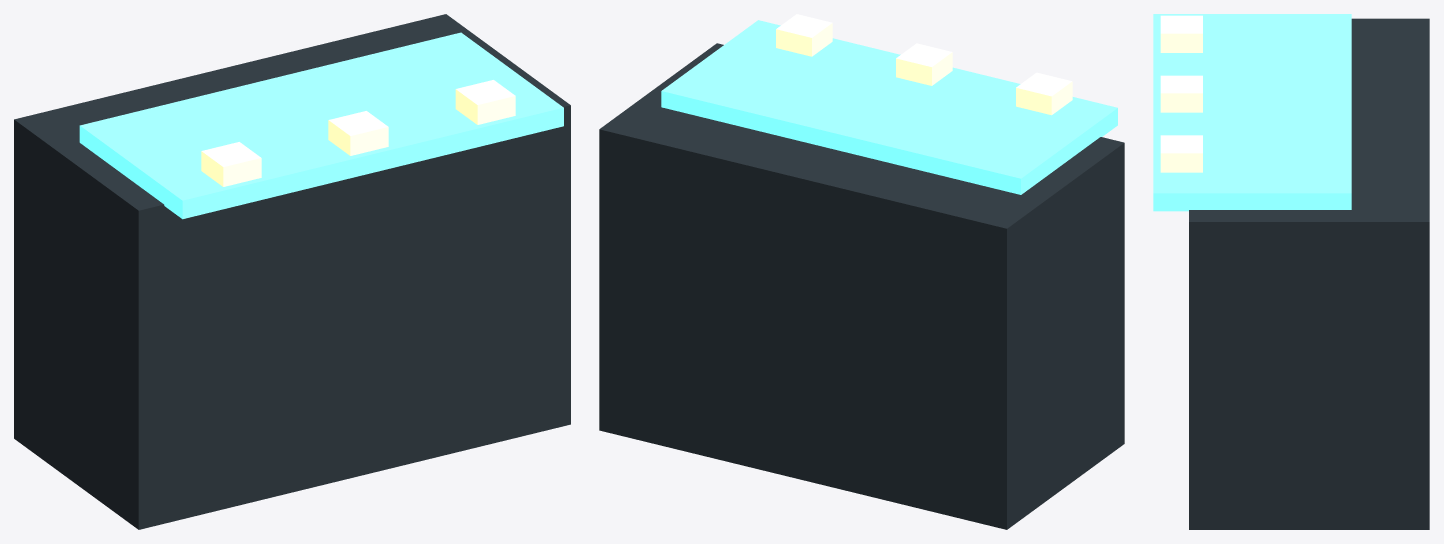
File: console.lod1.glb
3 views of the same model, side by side, from view 1: azimuth 30°, elevation 25°; view 2: azimuth 150°, elevation 25°; view 3: azimuth 270°, elevation 25° (orthographic). The views are drawn at different scales.
Parts seen in each view (by area): view 1: structure; view 2: structure; view 3: structure.
Part boxes in pixels (<box>): structure: <box>14,14,570,529</box>; structure: <box>599,14,1124,529</box>; structure: <box>1153,14,1429,529</box>.
Size of the model in its own units: 1.7 by 1.34 by 0.975.
